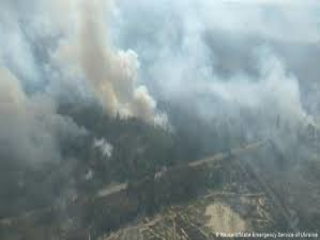smoke: (72, 16, 171, 136), (222, 50, 314, 154)
